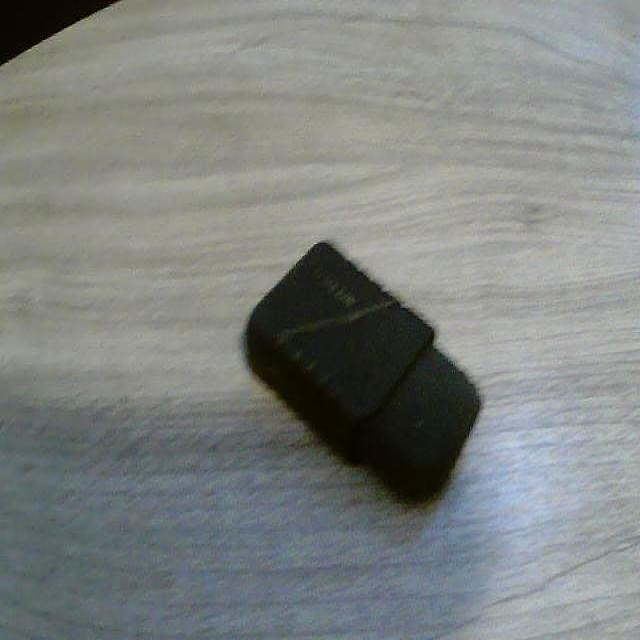borracha: (230, 235, 495, 508)
